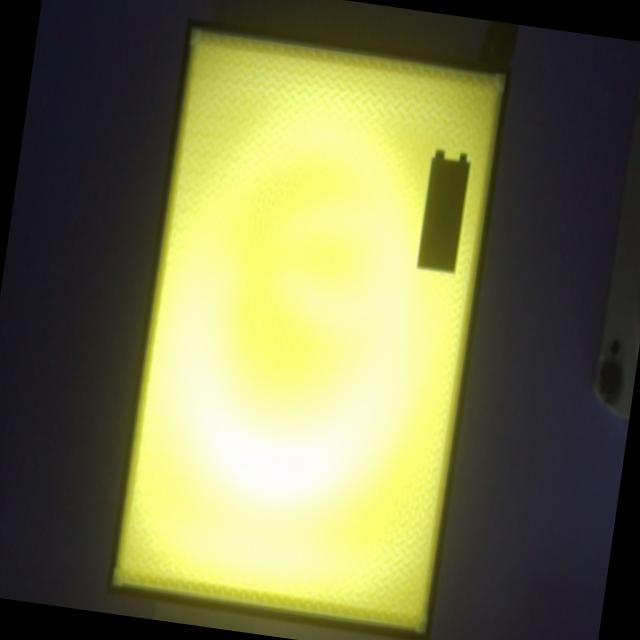bateria: (417, 150, 470, 273)
mesa: (106, 19, 513, 640)
